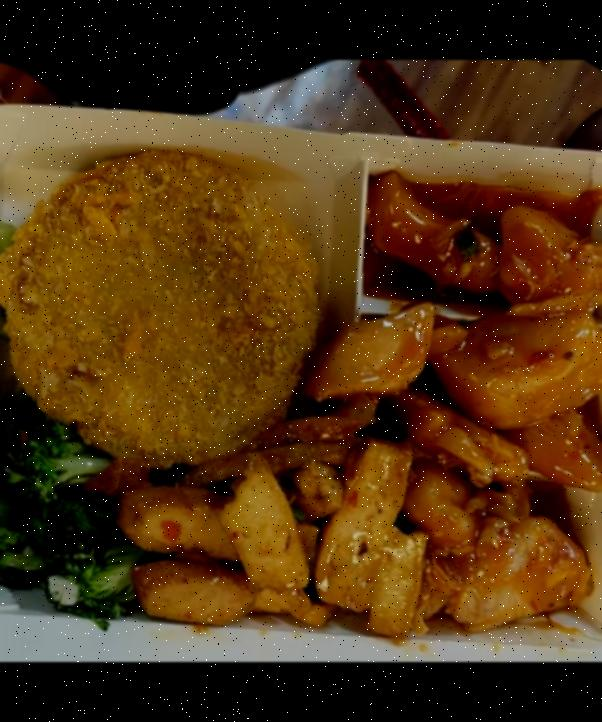big grilled chicken leg: (0, 98, 602, 656)
braised fish fillet: (120, 412, 422, 638), (0, 402, 138, 615)
braised pork: (0, 141, 318, 470), (371, 180, 602, 631)
